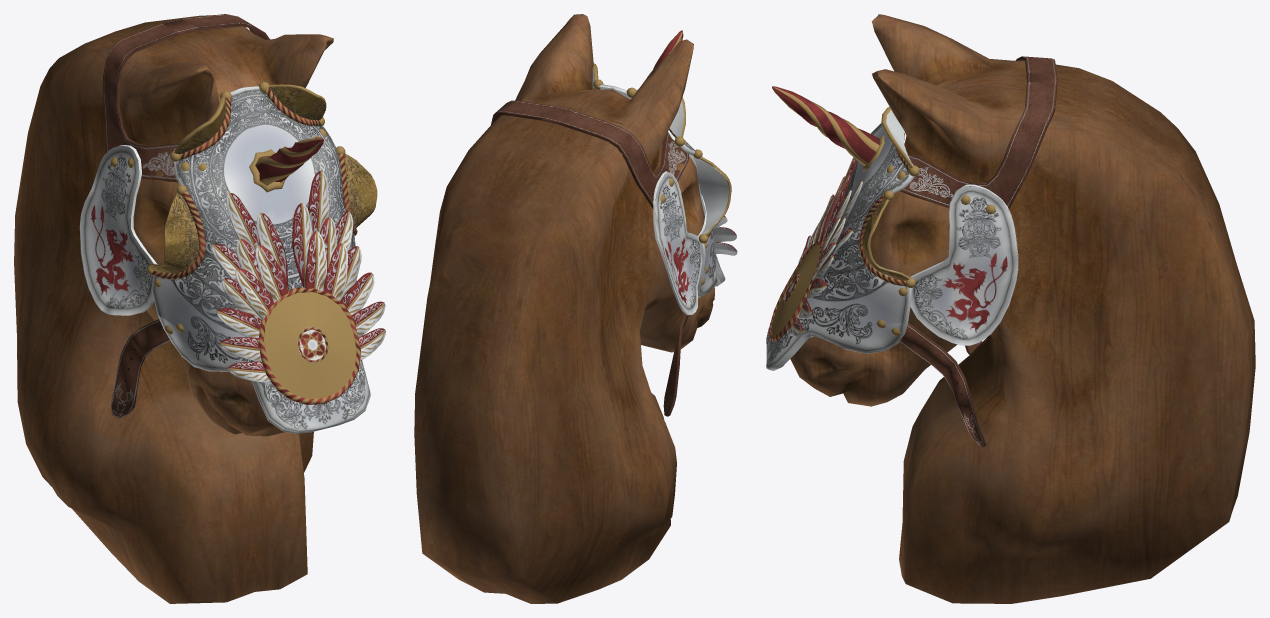
Rendered from shaffron.glb.
3 renders of one model, left to right at view 1: azimuth 30°, elevation 25°; view 2: azimuth 150°, elevation 25°; view 3: azimuth 270°, elevation 25°, orthographic. The views are drawn at different scales.
Visible parts, largest first — view 1: polySurface205_wood_0, polySurface338_unicornHorse_0; view 2: polySurface205_wood_0, polySurface338_unicornHorse_0; view 3: polySurface205_wood_0, polySurface338_unicornHorse_0.
Boxes of the visible parts, x1,y1,x2,y2 form: polySurface205_wood_0: (14,15,333,603); polySurface338_unicornHorse_0: (79,14,385,433); polySurface205_wood_0: (414,14,714,603); polySurface338_unicornHorse_0: (491,30,737,416); polySurface205_wood_0: (790,14,1255,603); polySurface338_unicornHorse_0: (766,56,1057,447).
Bounding box in the file's own units: 36.05 × 77.91 × 64.13.
2 materials, 2 textured.
